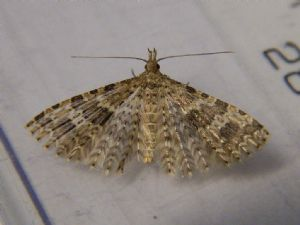Alucitidae: (20, 43, 276, 182)
moth: (18, 41, 274, 180)
